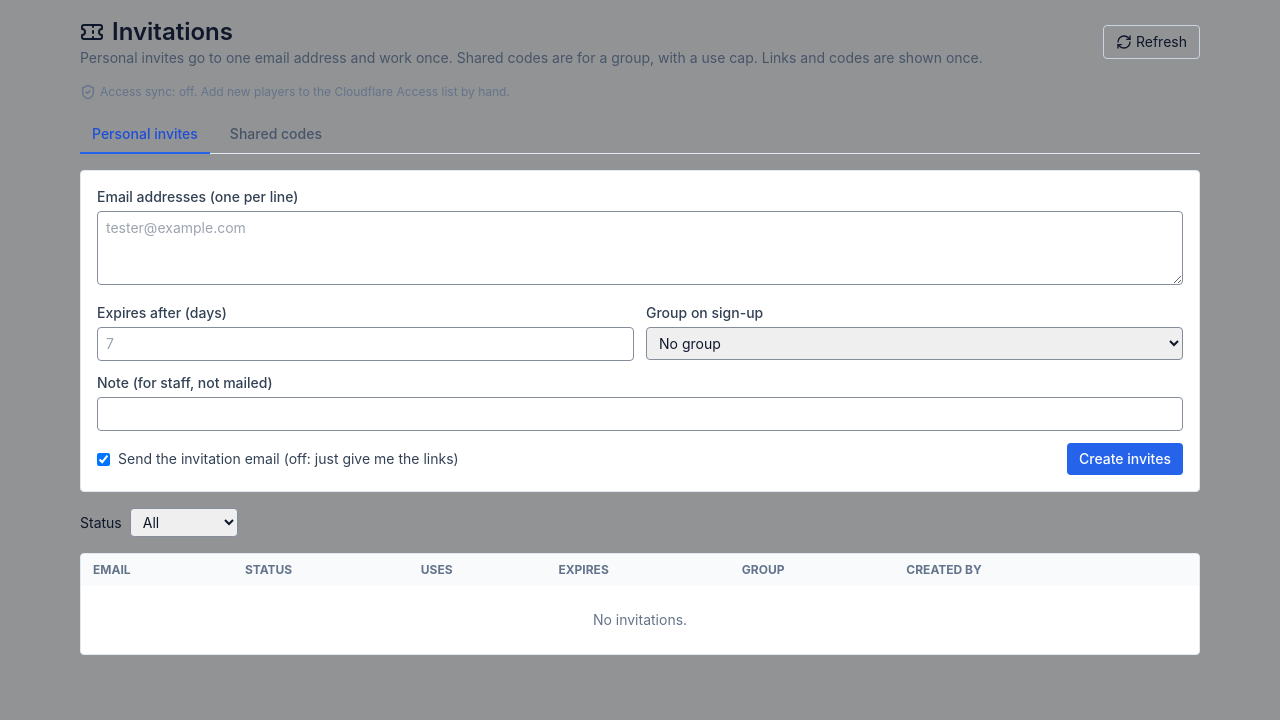
Scenario: InvitationsPage › creates a shared code and shows it with copy buttons
This screenshot has width=1280, height=720.
Click the tab "Shared codes" at (276, 135), box [218,116,334,154]
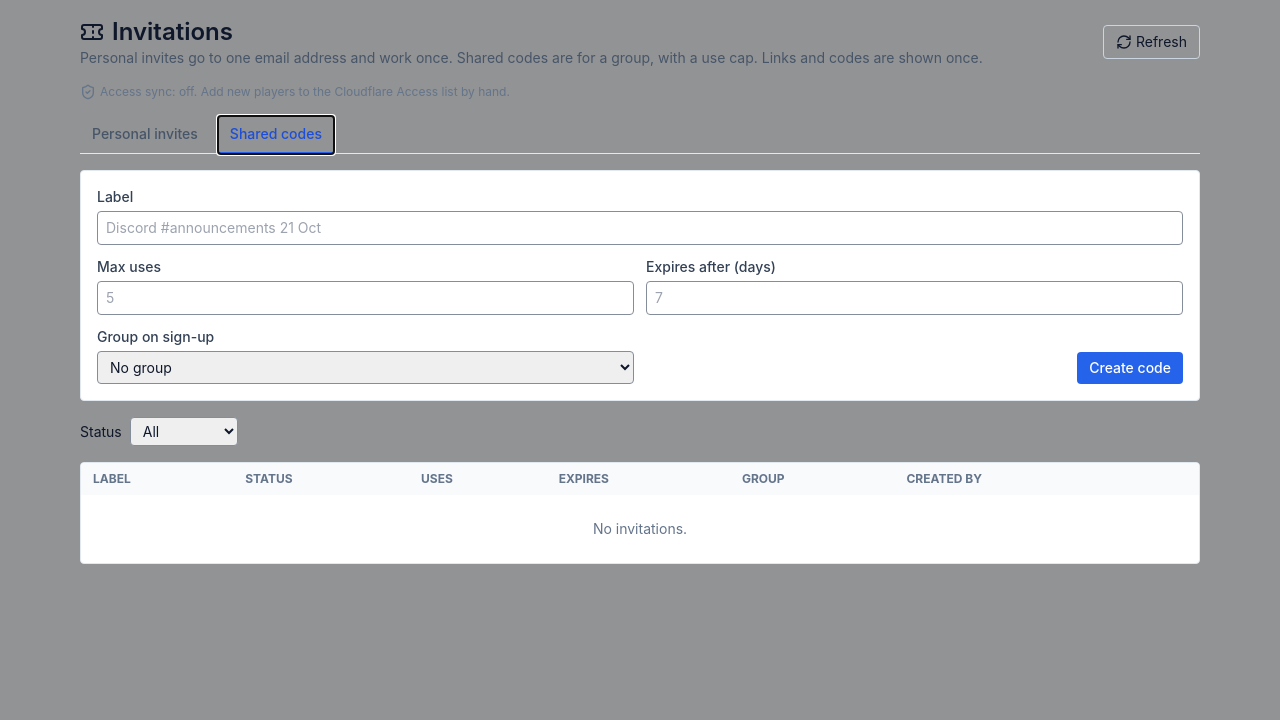
Type "Discord" into the field labelled "Label" at (640, 228), box [97,211,1183,245]
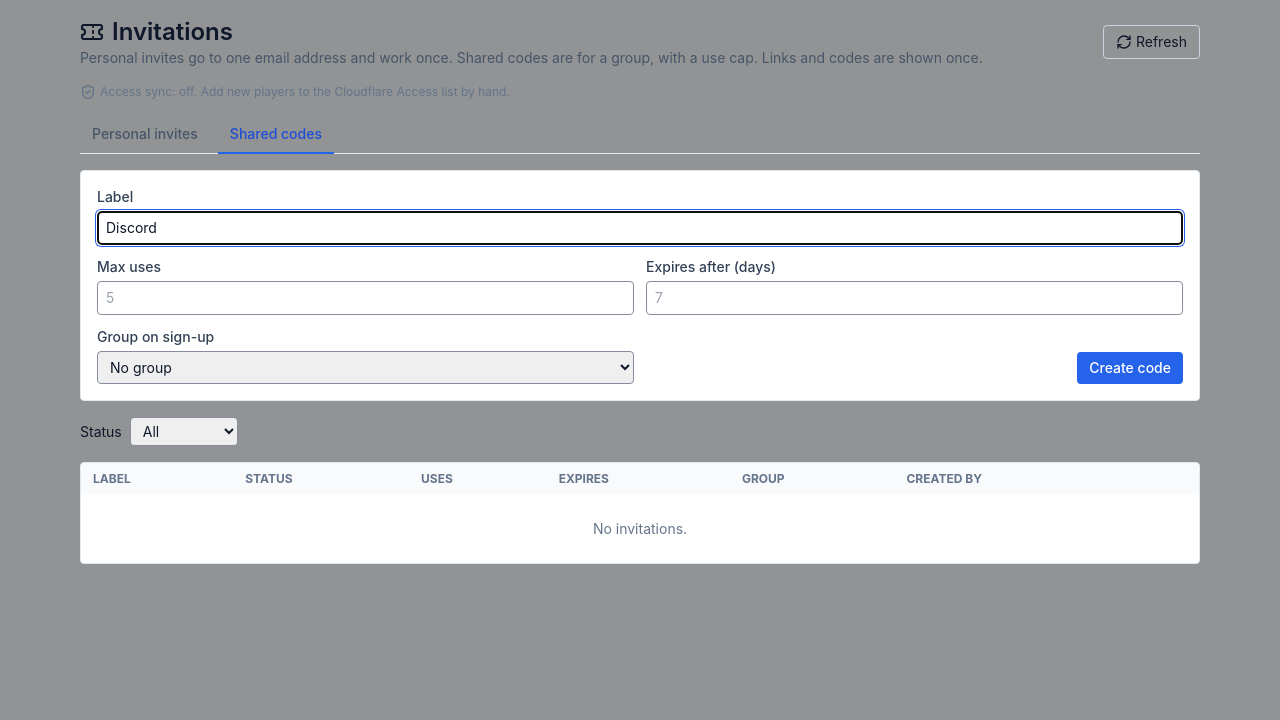
Type "10" into the number field labelled "Max uses" at (366, 298), box [97,281,634,315]
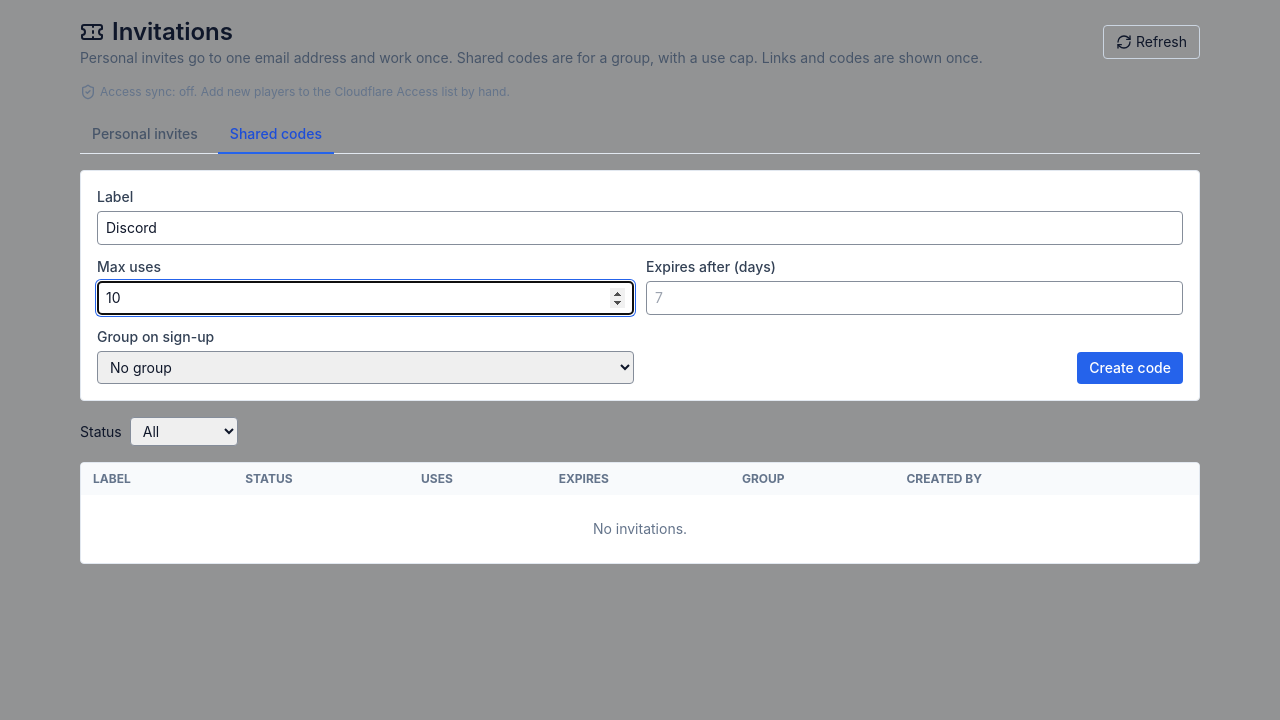
Click the button "Create code" at (1130, 368), box [1077,352,1183,384]
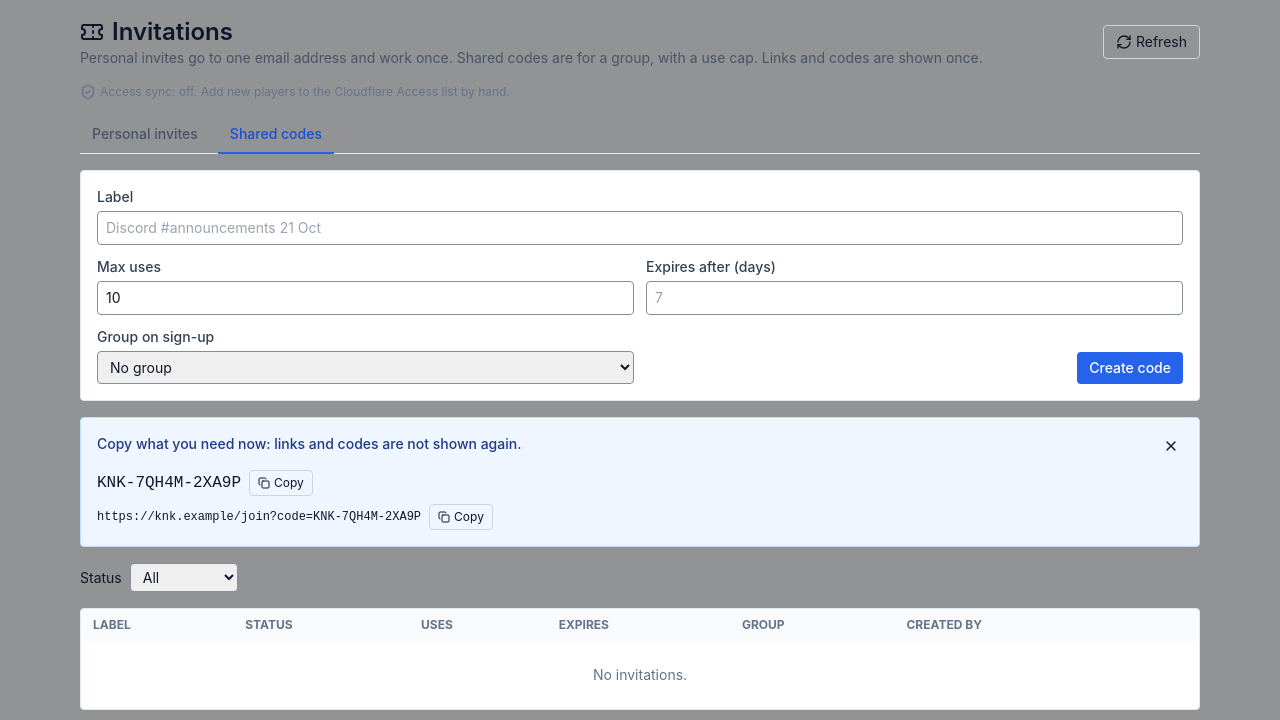
Now the text with test id "shared-code" reads "KNK-7QH4M-2XA9P", box [97,474,241,492]
Now the button with aria-label "Copy code" is shown, box [249,470,313,496]
Now the button with aria-label "Copy link" is shown, box [429,504,493,530]
